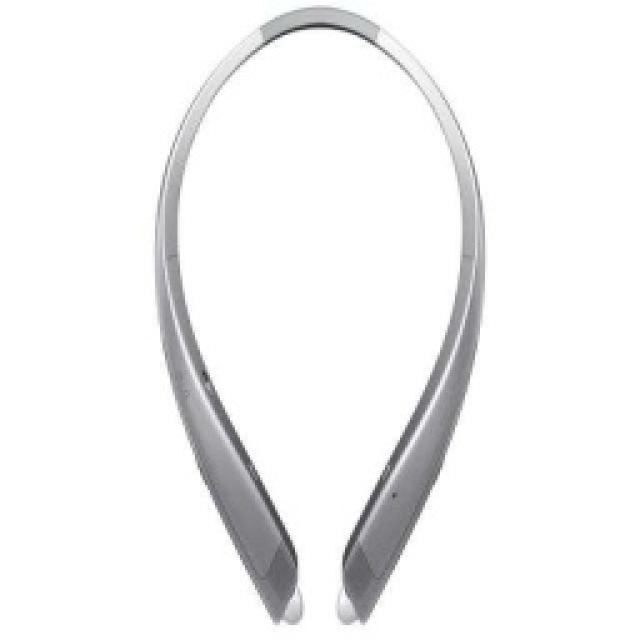headphones: (150, 3, 488, 625)
